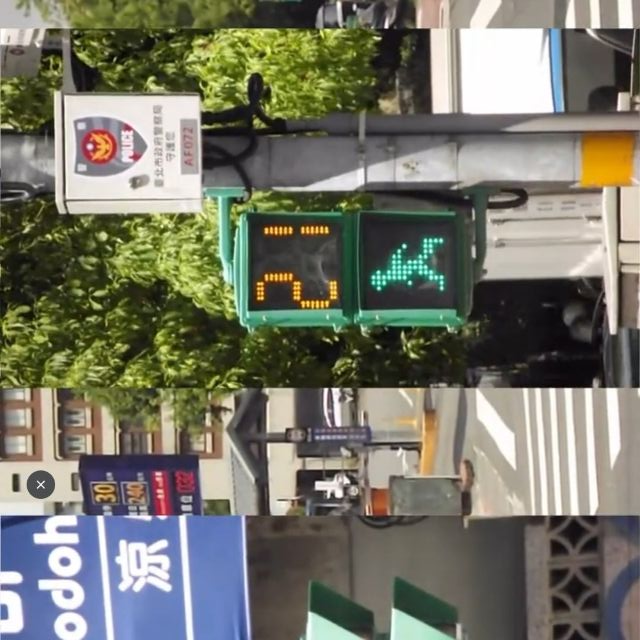green_light: (235, 213, 469, 325)
